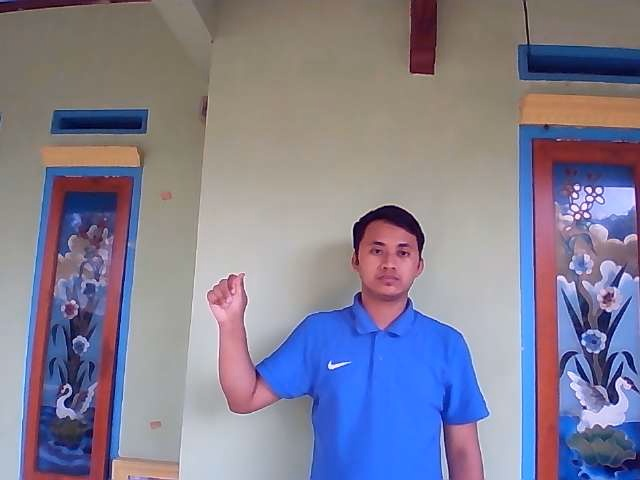A: (205, 271, 249, 323)
